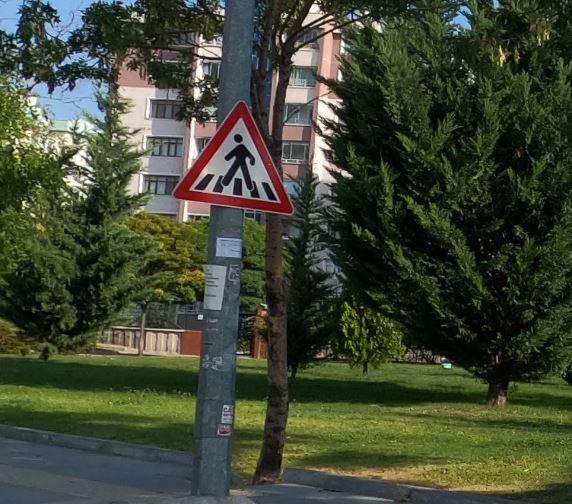Yaya Gecidi: (172, 100, 294, 222)
